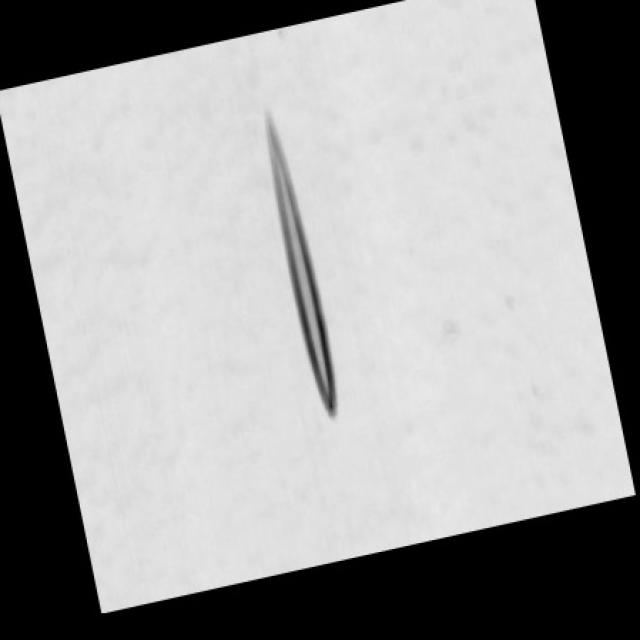Defect5: (228, 94, 362, 432)
